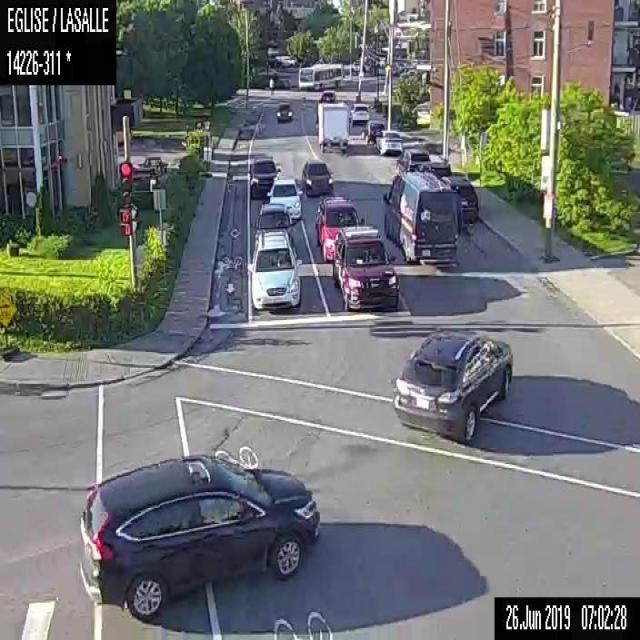bus: (298, 62, 342, 88)
pedestrian: (268, 76, 274, 95)
vehicle: (76, 451, 320, 621), (390, 329, 514, 443), (383, 175, 458, 263), (333, 224, 399, 309), (249, 228, 302, 311), (314, 194, 359, 260), (314, 101, 348, 154), (445, 172, 478, 226), (266, 177, 300, 219), (249, 153, 278, 201), (300, 158, 332, 197), (252, 202, 291, 230), (394, 147, 430, 174), (375, 128, 404, 155), (421, 153, 452, 173), (360, 118, 384, 142), (350, 100, 369, 124), (275, 103, 291, 120), (320, 88, 334, 102)
